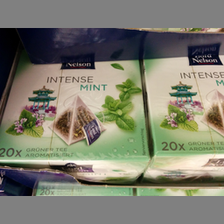tea: (1, 52, 149, 184), (142, 55, 224, 184)
